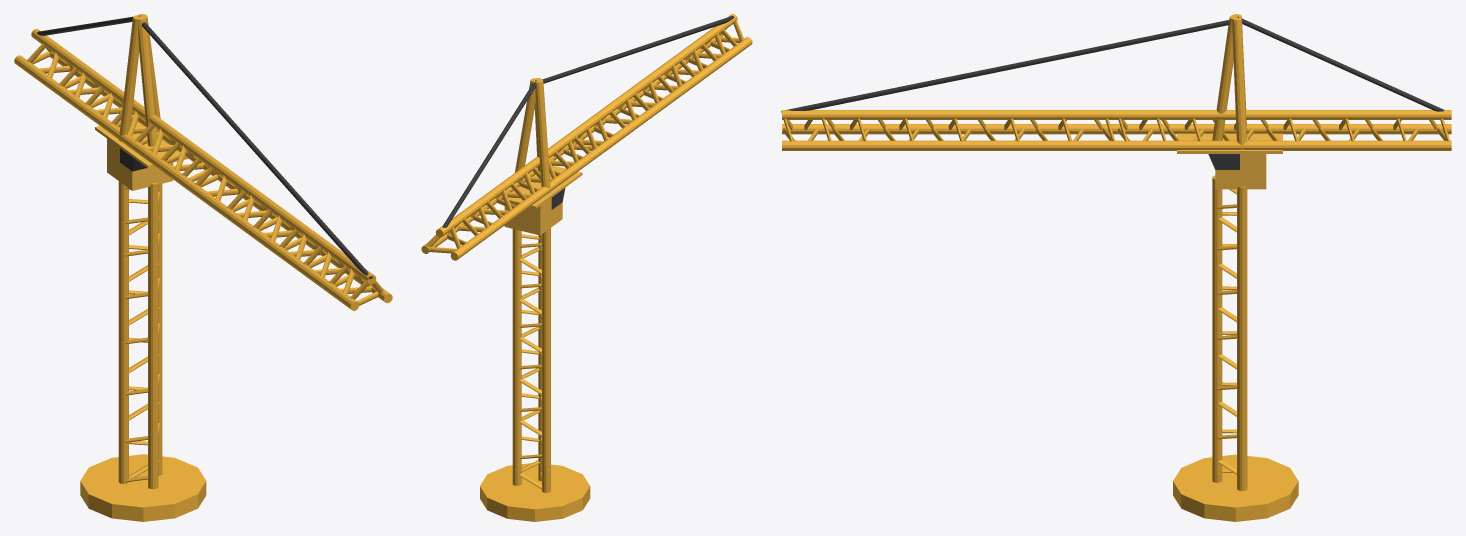
Rendered from Crane.fbx.
3 renders of one model, left to right at view 1: azimuth 30°, elevation 25°; view 2: azimuth 150°, elevation 25°; view 3: azimuth 270°, elevation 25°, orthographic. The views are drawn at different scales.
Visible parts, largest first — view 1: Crane; view 2: Crane; view 3: Crane.
Boxes of the visible parts, x1,y1,x2,y2 form: Crane: [14, 14, 392, 521]; Crane: [421, 14, 752, 521]; Crane: [781, 14, 1451, 521].
Size of the model in its own units: 8.7 by 36.52 by 46.45.
